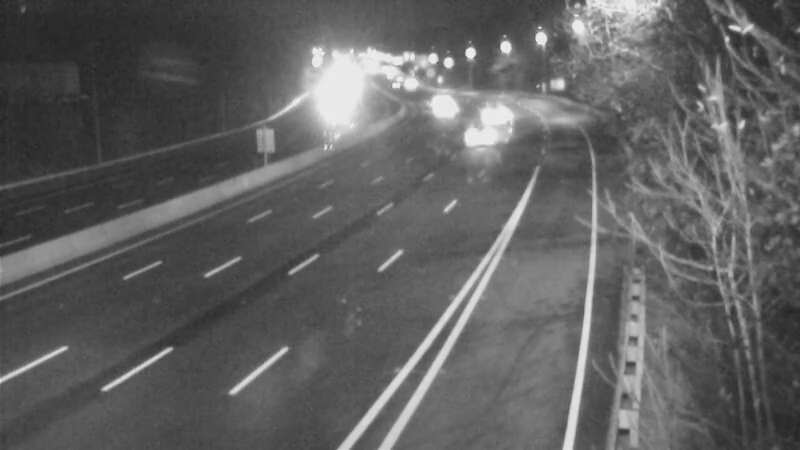vehicle: (412, 72, 462, 122), (425, 83, 475, 133), (465, 84, 515, 134), (454, 116, 504, 166)
